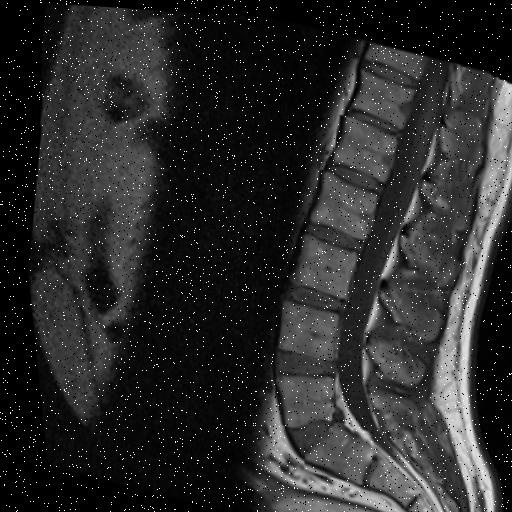L1: (331, 112, 394, 175)
L2: (306, 168, 373, 236)
L3: (287, 231, 351, 294)
L4: (272, 299, 331, 357)
L5: (270, 373, 326, 425)
S1: (295, 418, 363, 481)
